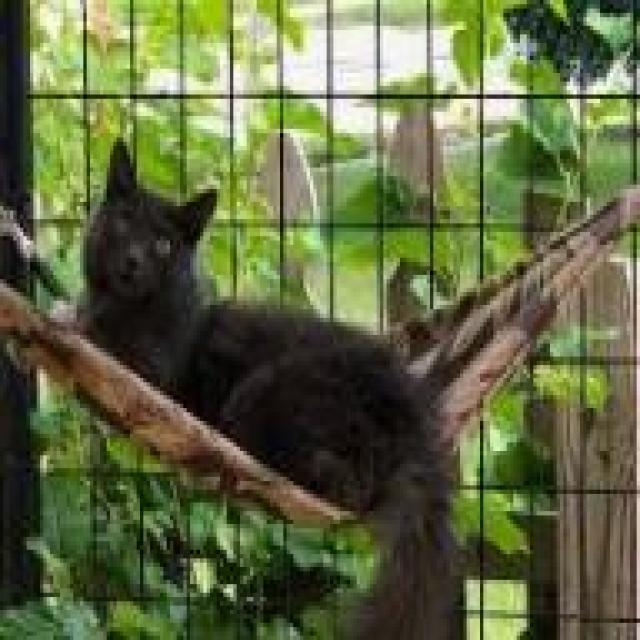Gato: (47, 133, 473, 640)
